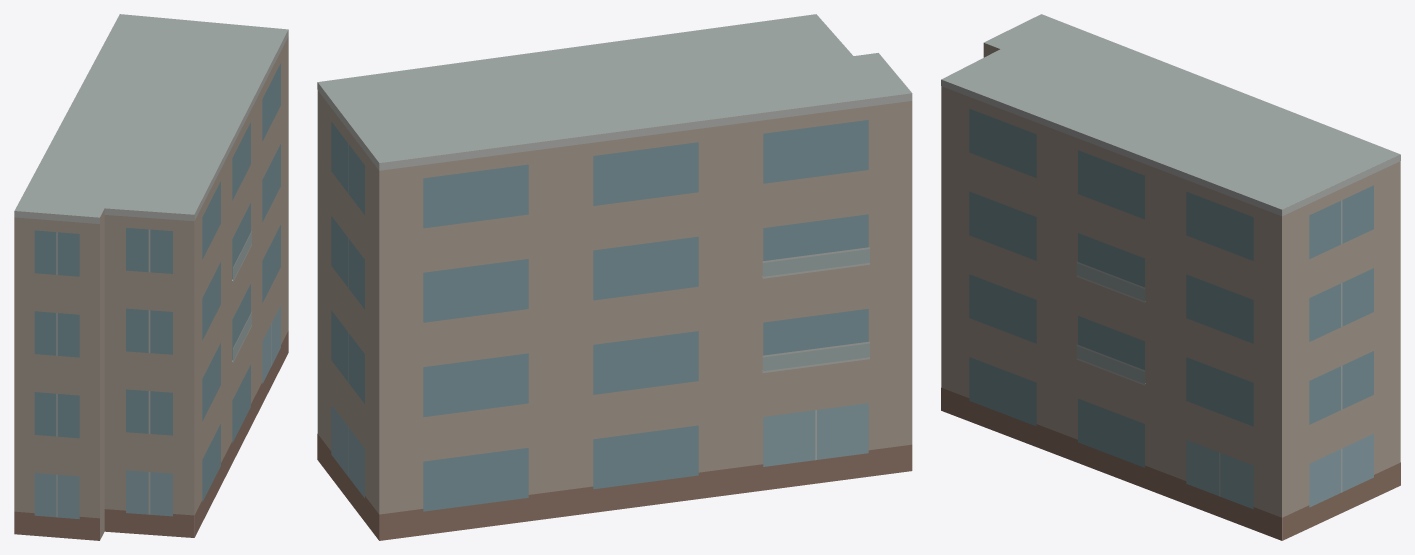
File: survey-upis-32815134.glb
3 views of the same model, side by side, from view 1: azimuth 30°, elevation 25°; view 2: azimuth 150°, elevation 25°; view 3: azimuth 270°, elevation 25° (orthographic). The views are drawn at different scales.
Visible parts, largest first — view 1: survey-upis-32815134.tmp; view 2: survey-upis-32815134.tmp; view 3: survey-upis-32815134.tmp.
Boxes of the visible parts, x1,y1,x2,y2 form: survey-upis-32815134.tmp: (14, 14, 288, 540); survey-upis-32815134.tmp: (317, 14, 912, 540); survey-upis-32815134.tmp: (941, 14, 1400, 540).
Bounding box in the file's own units: 15.48 × 12.2 × 15.35.
